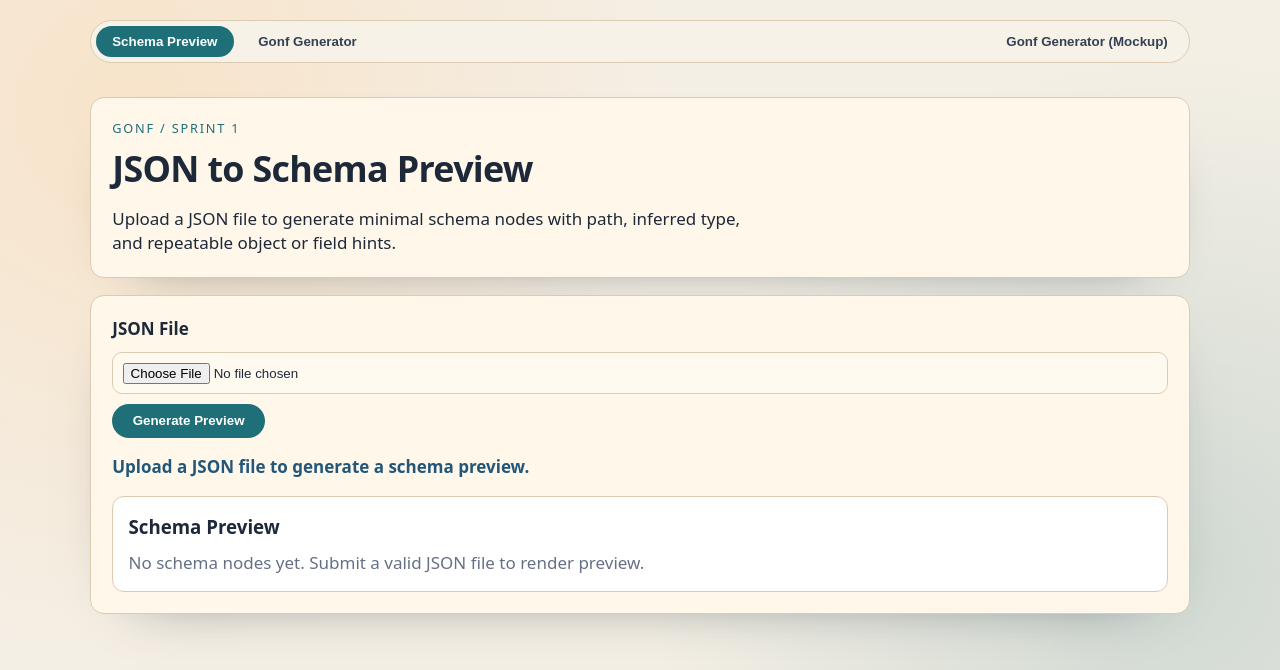
Test: App › shows room, item, and character tabs in the Gonf Generator section
Click the button "Gonf Generator": {"x": 308, "y": 42} top-left (242, 26), bottom-right (373, 57)
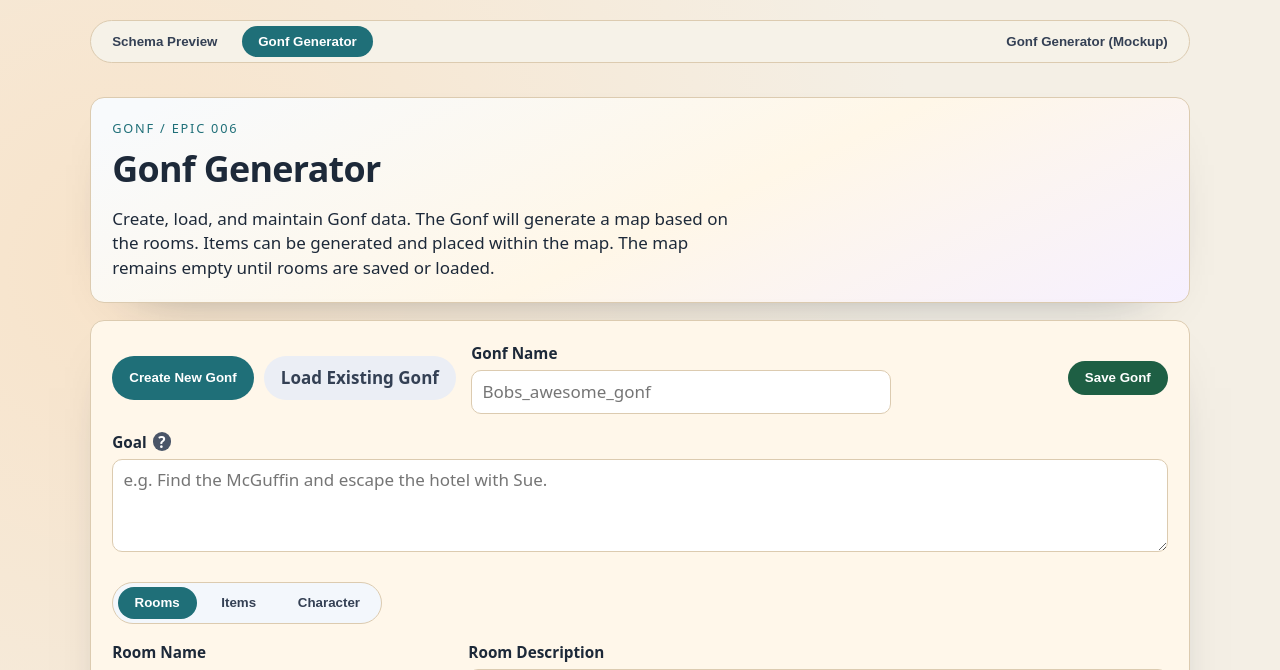
Expected: the tab "Rooms" is shown, top-left (118, 587), bottom-right (197, 619)
Expected: the tab "Items" is shown, top-left (204, 587), bottom-right (273, 619)
Expected: the tab "Character" is shown, top-left (281, 587), bottom-right (377, 619)
